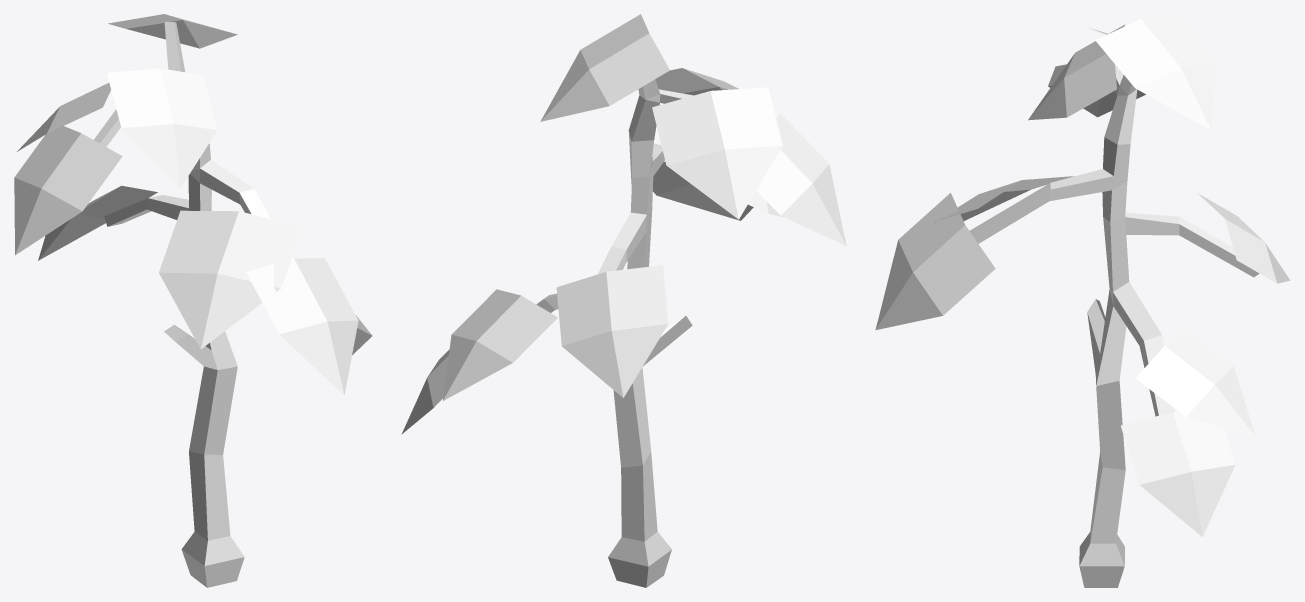
The model's file is SM_Prop_Plant_Bush_01_M.glb.
The picture shows the model from 3 angles, left to right: view 1: azimuth 30°, elevation 25°; view 2: azimuth 150°, elevation 25°; view 3: azimuth 270°, elevation 25°; orthographic projection. The views are drawn at different scales.
Parts seen in each view (by area): view 1: SM_Prop_Plant_Bush_01_M; view 2: SM_Prop_Plant_Bush_01_M; view 3: SM_Prop_Plant_Bush_01_M.
Boxes of the visible parts, left/top/right/bottom form: SM_Prop_Plant_Bush_01_M: left=14, top=14, right=372, bottom=587; SM_Prop_Plant_Bush_01_M: left=401, top=14, right=846, bottom=587; SM_Prop_Plant_Bush_01_M: left=875, top=14, right=1290, bottom=587.
Bounding box in the file's own units: 0.4897 × 0.6791 × 0.4664.
2 materials, 1 textured.
